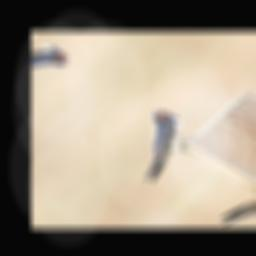Swallow: (85, 106, 215, 203)
